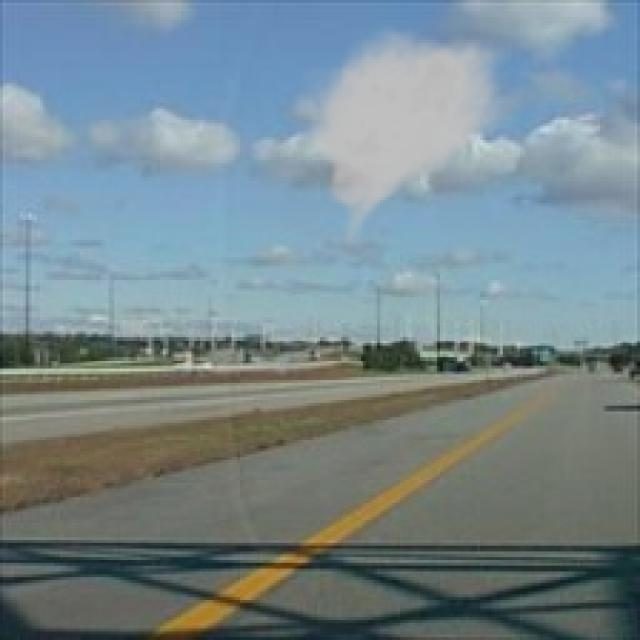Smoke: (300, 25, 514, 252)
